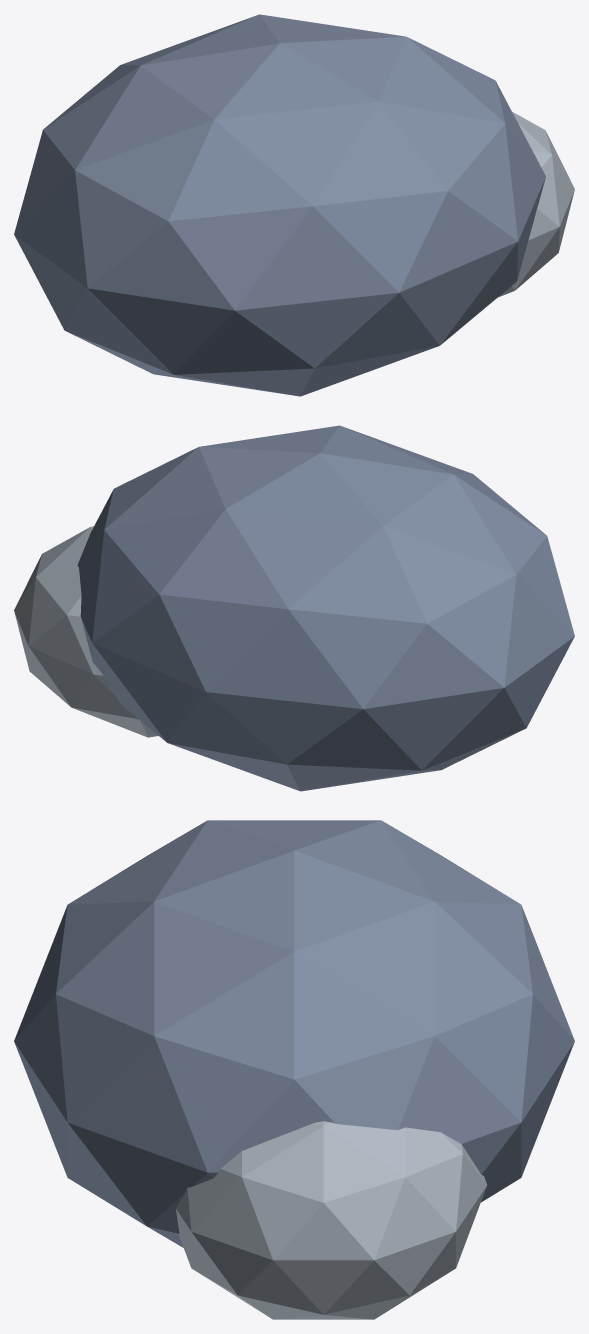
The model's file is Scuba_Rock.fbx.
The picture shows the model from 3 angles, top to bottom: view 1: azimuth 30°, elevation 25°; view 2: azimuth 150°, elevation 25°; view 3: azimuth 270°, elevation 25°; orthographic projection. The views are drawn at different scales.
Visible parts, largest first — view 1: Rock; view 2: Rock; view 3: Rock.
Part boxes in pixels (bbox=[...]): Rock: bbox=[14, 14, 574, 396]; Rock: bbox=[14, 425, 574, 791]; Rock: bbox=[14, 820, 574, 1319].
Size of the model in its own units: 2.39 by 1.44 by 1.92.
